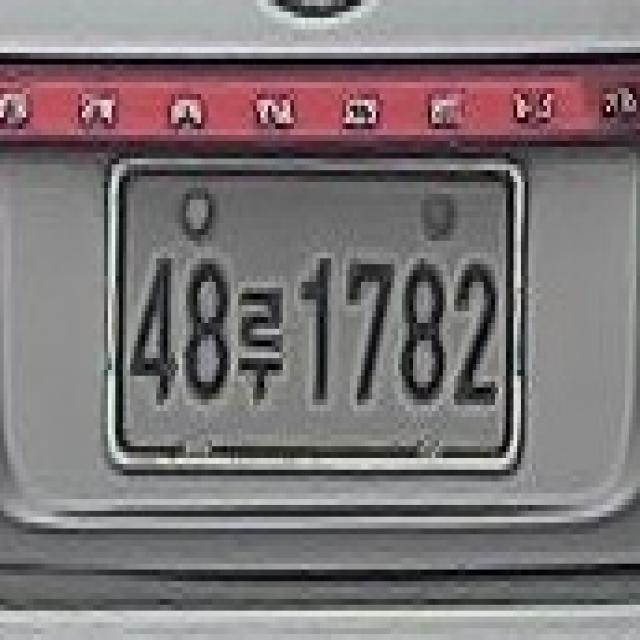1: (294, 243, 336, 424)
2: (450, 254, 503, 418)
4: (128, 246, 178, 418)
7: (342, 246, 394, 427)
8: (182, 255, 234, 407), (399, 252, 446, 412)
license_plate: (98, 134, 530, 482)
lu: (238, 278, 291, 413)
